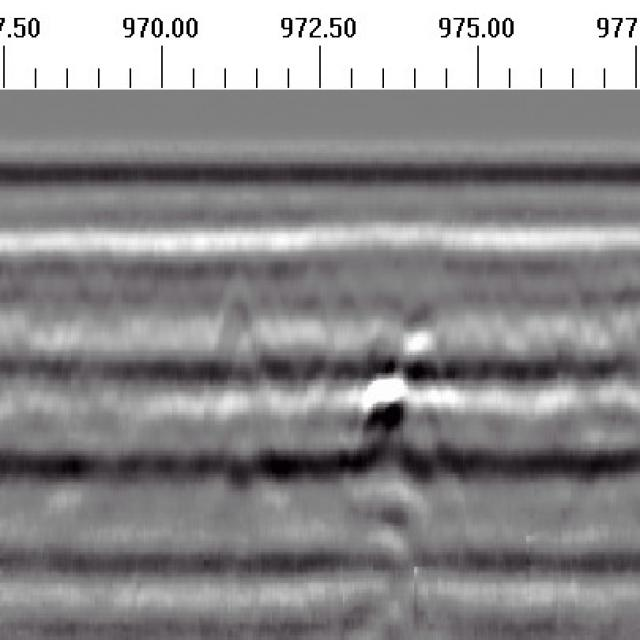loose: (218, 304, 458, 491)
